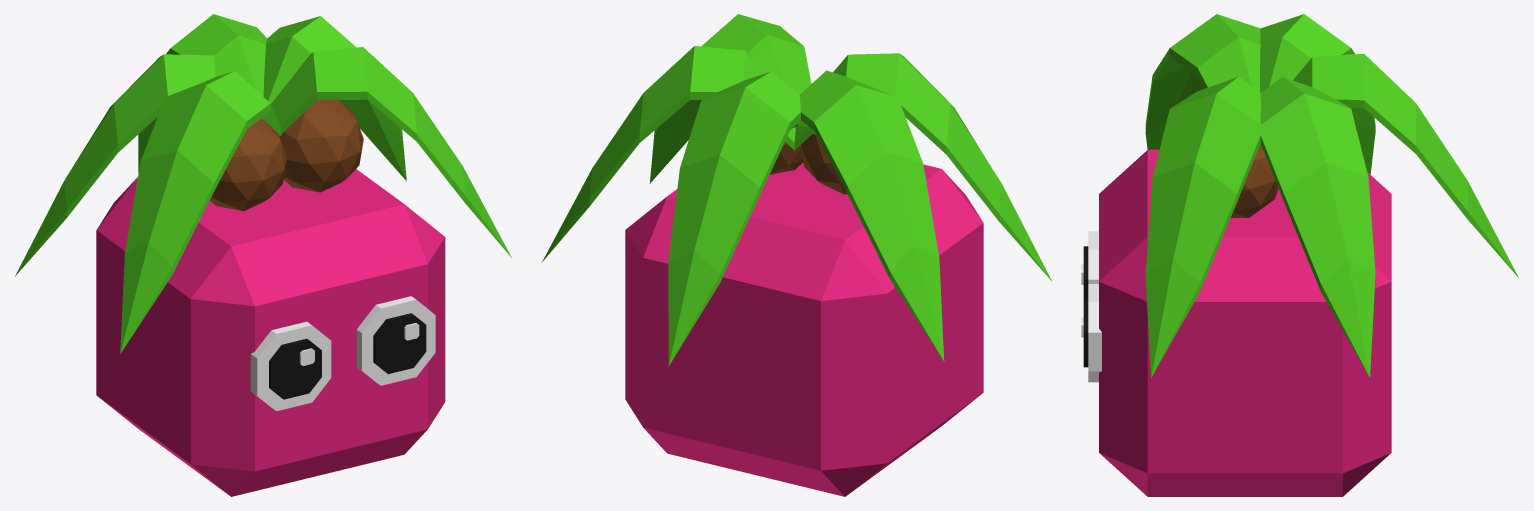
Rendered from Coco.fbx.
3 views of the same model, side by side, from view 1: azimuth 30°, elevation 25°; view 2: azimuth 150°, elevation 25°; view 3: azimuth 270°, elevation 25° (orthographic). The views are drawn at different scales.
Visible parts, largest first — view 1: Coco, Coco_Fronds, Coco_Coconuts, Coco_Eyes, Coco_Pupils; view 2: Coco, Coco_Fronds, Coco_Coconuts; view 3: Coco, Coco_Fronds, Coco_Eyes, Coco_Coconuts, Coco_Pupils.
Part boxes in pixels (x1,y1,x2,y2): Coco: (96,169,445,496); Coco_Fronds: (15,14,511,354); Coco_Coconuts: (210,100,363,211); Coco_Eyes: (250,296,435,411); Coco_Pupils: (269,313,426,399); Coco: (625,162,983,496); Coco_Fronds: (541,14,1051,366); Coco_Coconuts: (770,134,847,194); Coco: (1099,149,1391,496); Coco_Fronds: (1145,14,1518,377); Coco_Eyes: (1081,231,1101,382); Coco_Coconuts: (1231,144,1278,217); Coco_Pupils: (1083,246,1088,367).
Size of the model in its own units: 3.08 by 2.89 by 2.88.
